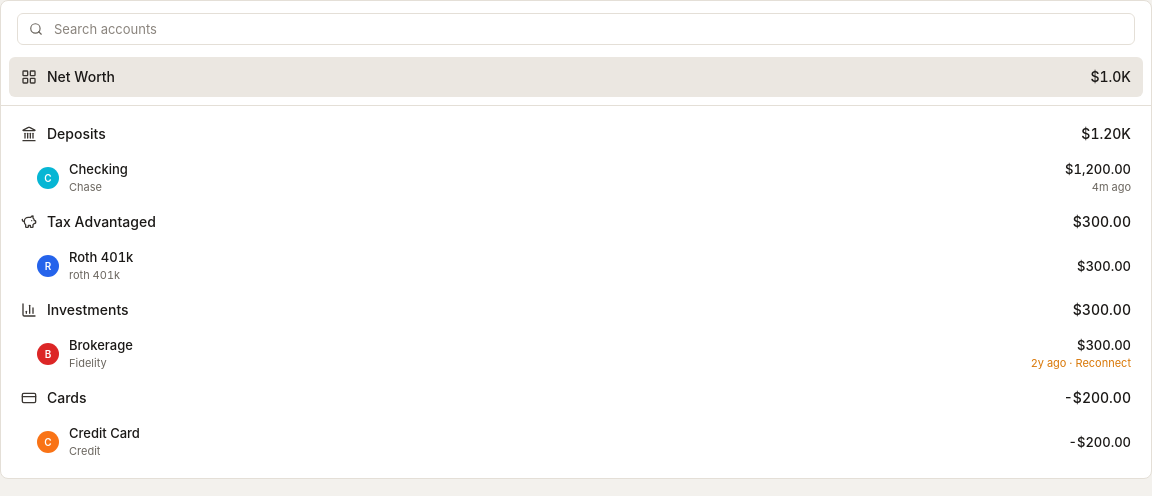
it: AccountSidebar › renders expanded groups with abbreviated totals on desktop
Expected: the text "Net Worth" is shown, [47,68,115,85]
Expected: the text "$1.0K" is shown, [1090,67,1131,87]
Click the button named "Collapse Deposits accounts": (29, 134) [21,126,37,142]
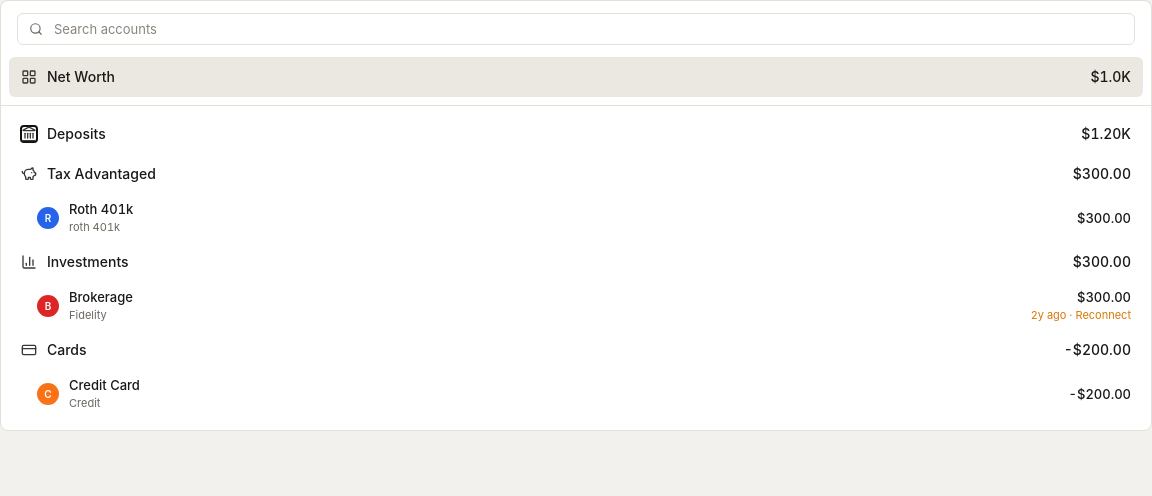
Expected: the text "Checking" is gone
Click the button named "Expand Deposits accounts": (29, 134) [21,126,37,142]
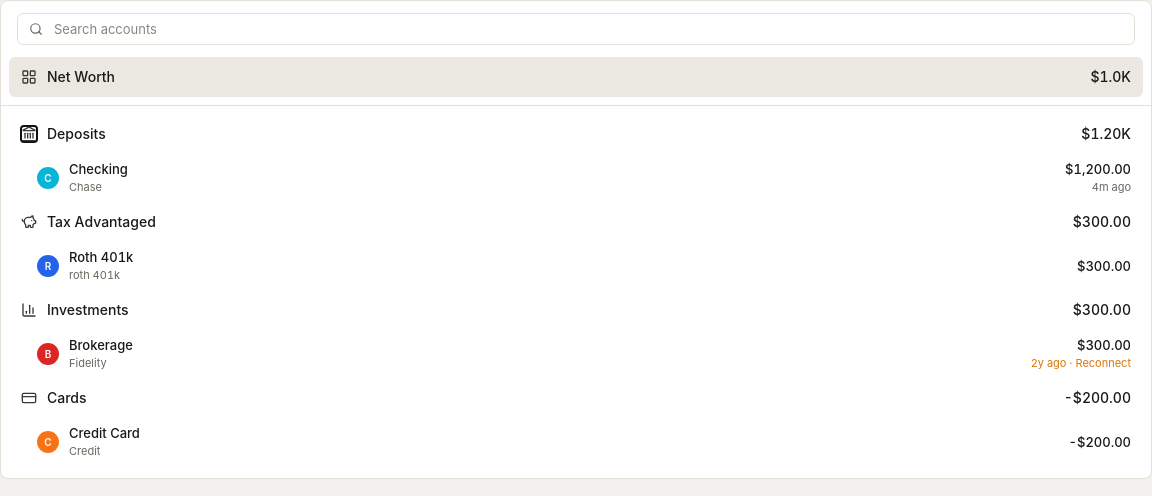
Expected: the text "Checking" is shown, [69,161,128,177]
